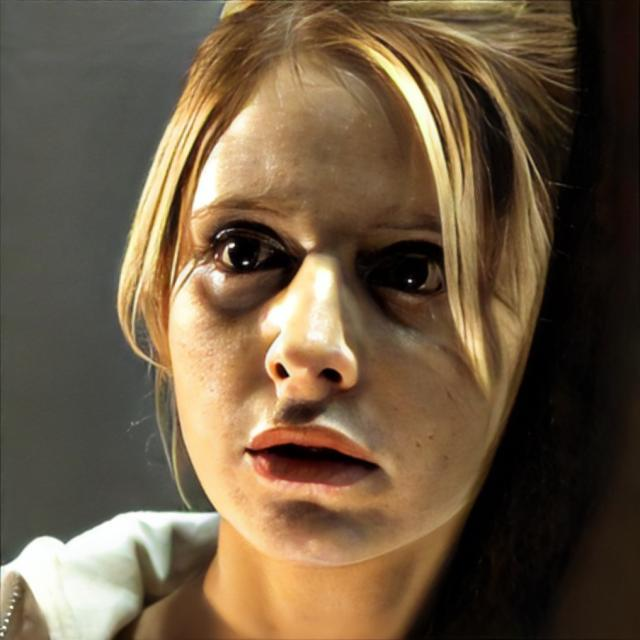fear: (166, 45, 548, 570)
